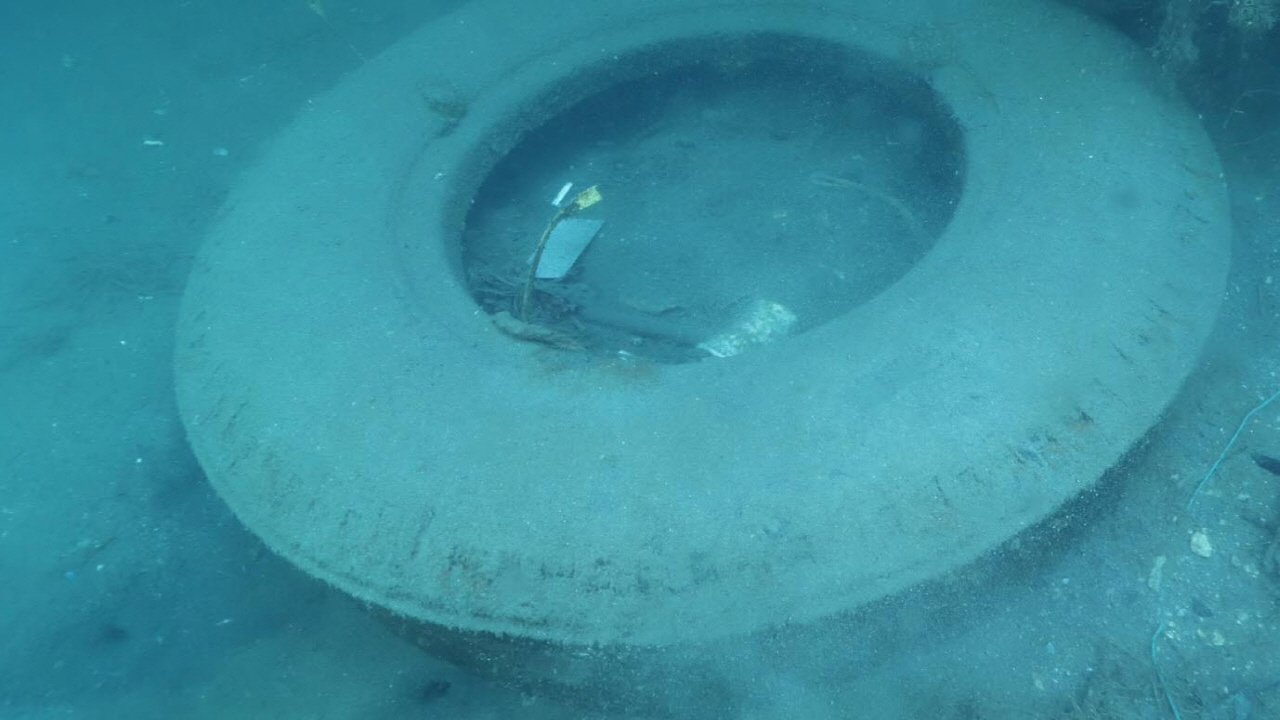tire: (170, 0, 1237, 690)
